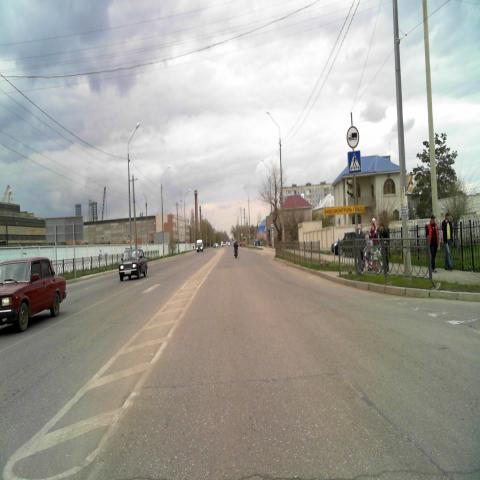3_4_1: (347, 125, 359, 148)
